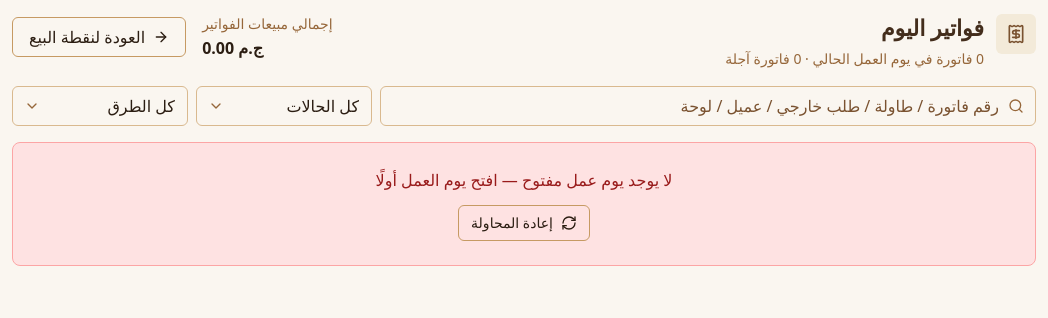
it: Today invoices page › surfaces a load failure with a retry
Check: the message "لا يوجد يوم عمل مفتوح — افتح يوم العمل أولًا إعادة المحاولة" is shown, box [12,142,1036,266]
Click the button "إعادة المحاولة" at coordinates (524, 223), box [458,205,590,241]
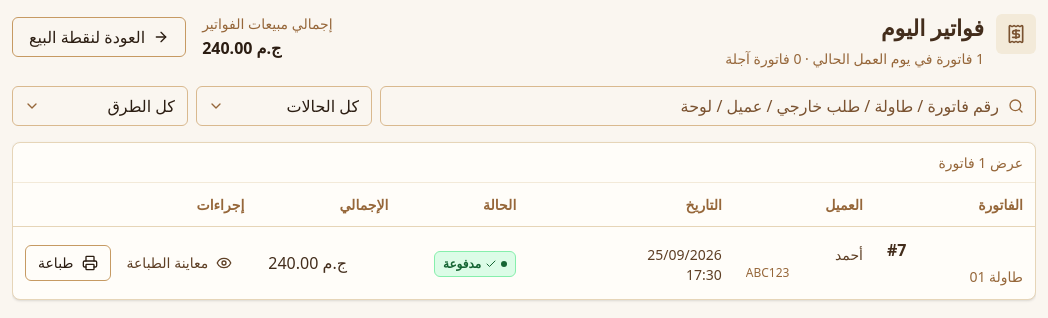
Check: the text "#7" is shown, box [887,239,906,261]
